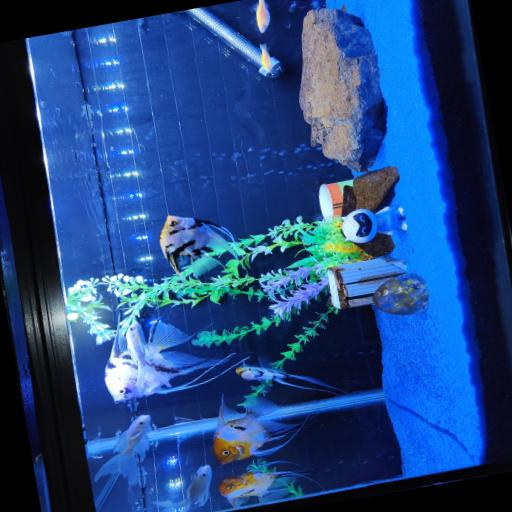Fish: (105, 320, 229, 401), (213, 395, 304, 464), (160, 215, 237, 276), (219, 460, 314, 506), (236, 356, 344, 393), (95, 414, 151, 484), (153, 464, 212, 511), (256, 0, 270, 32), (260, 43, 272, 71)
